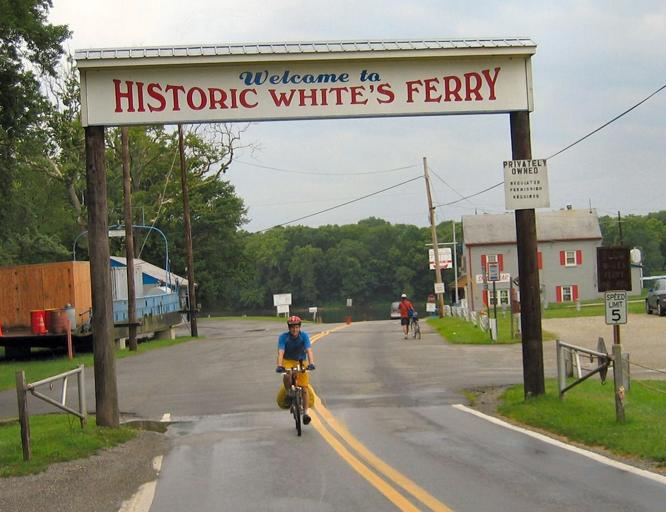non-vehicle: (279, 364, 320, 435), (408, 312, 421, 341)
